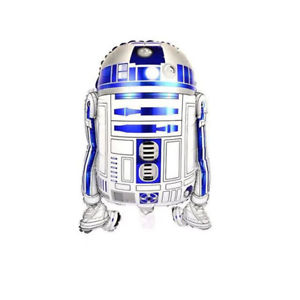r2d2: (93, 39, 199, 205)
